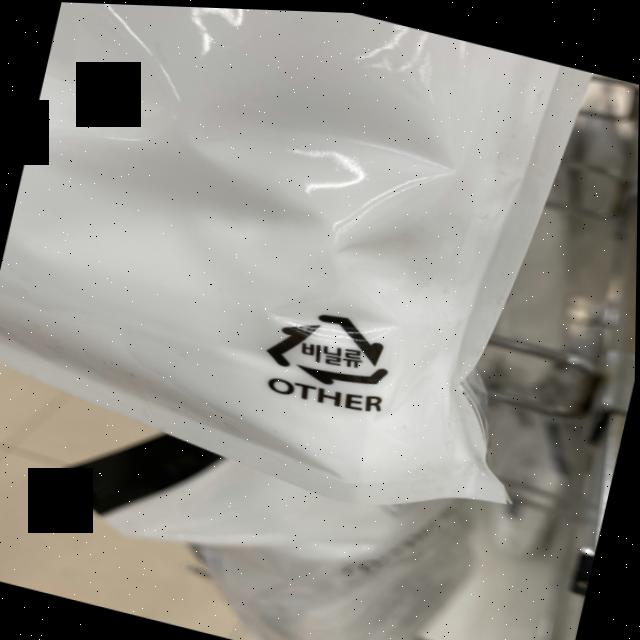Vinyl: (250, 290, 405, 396)
